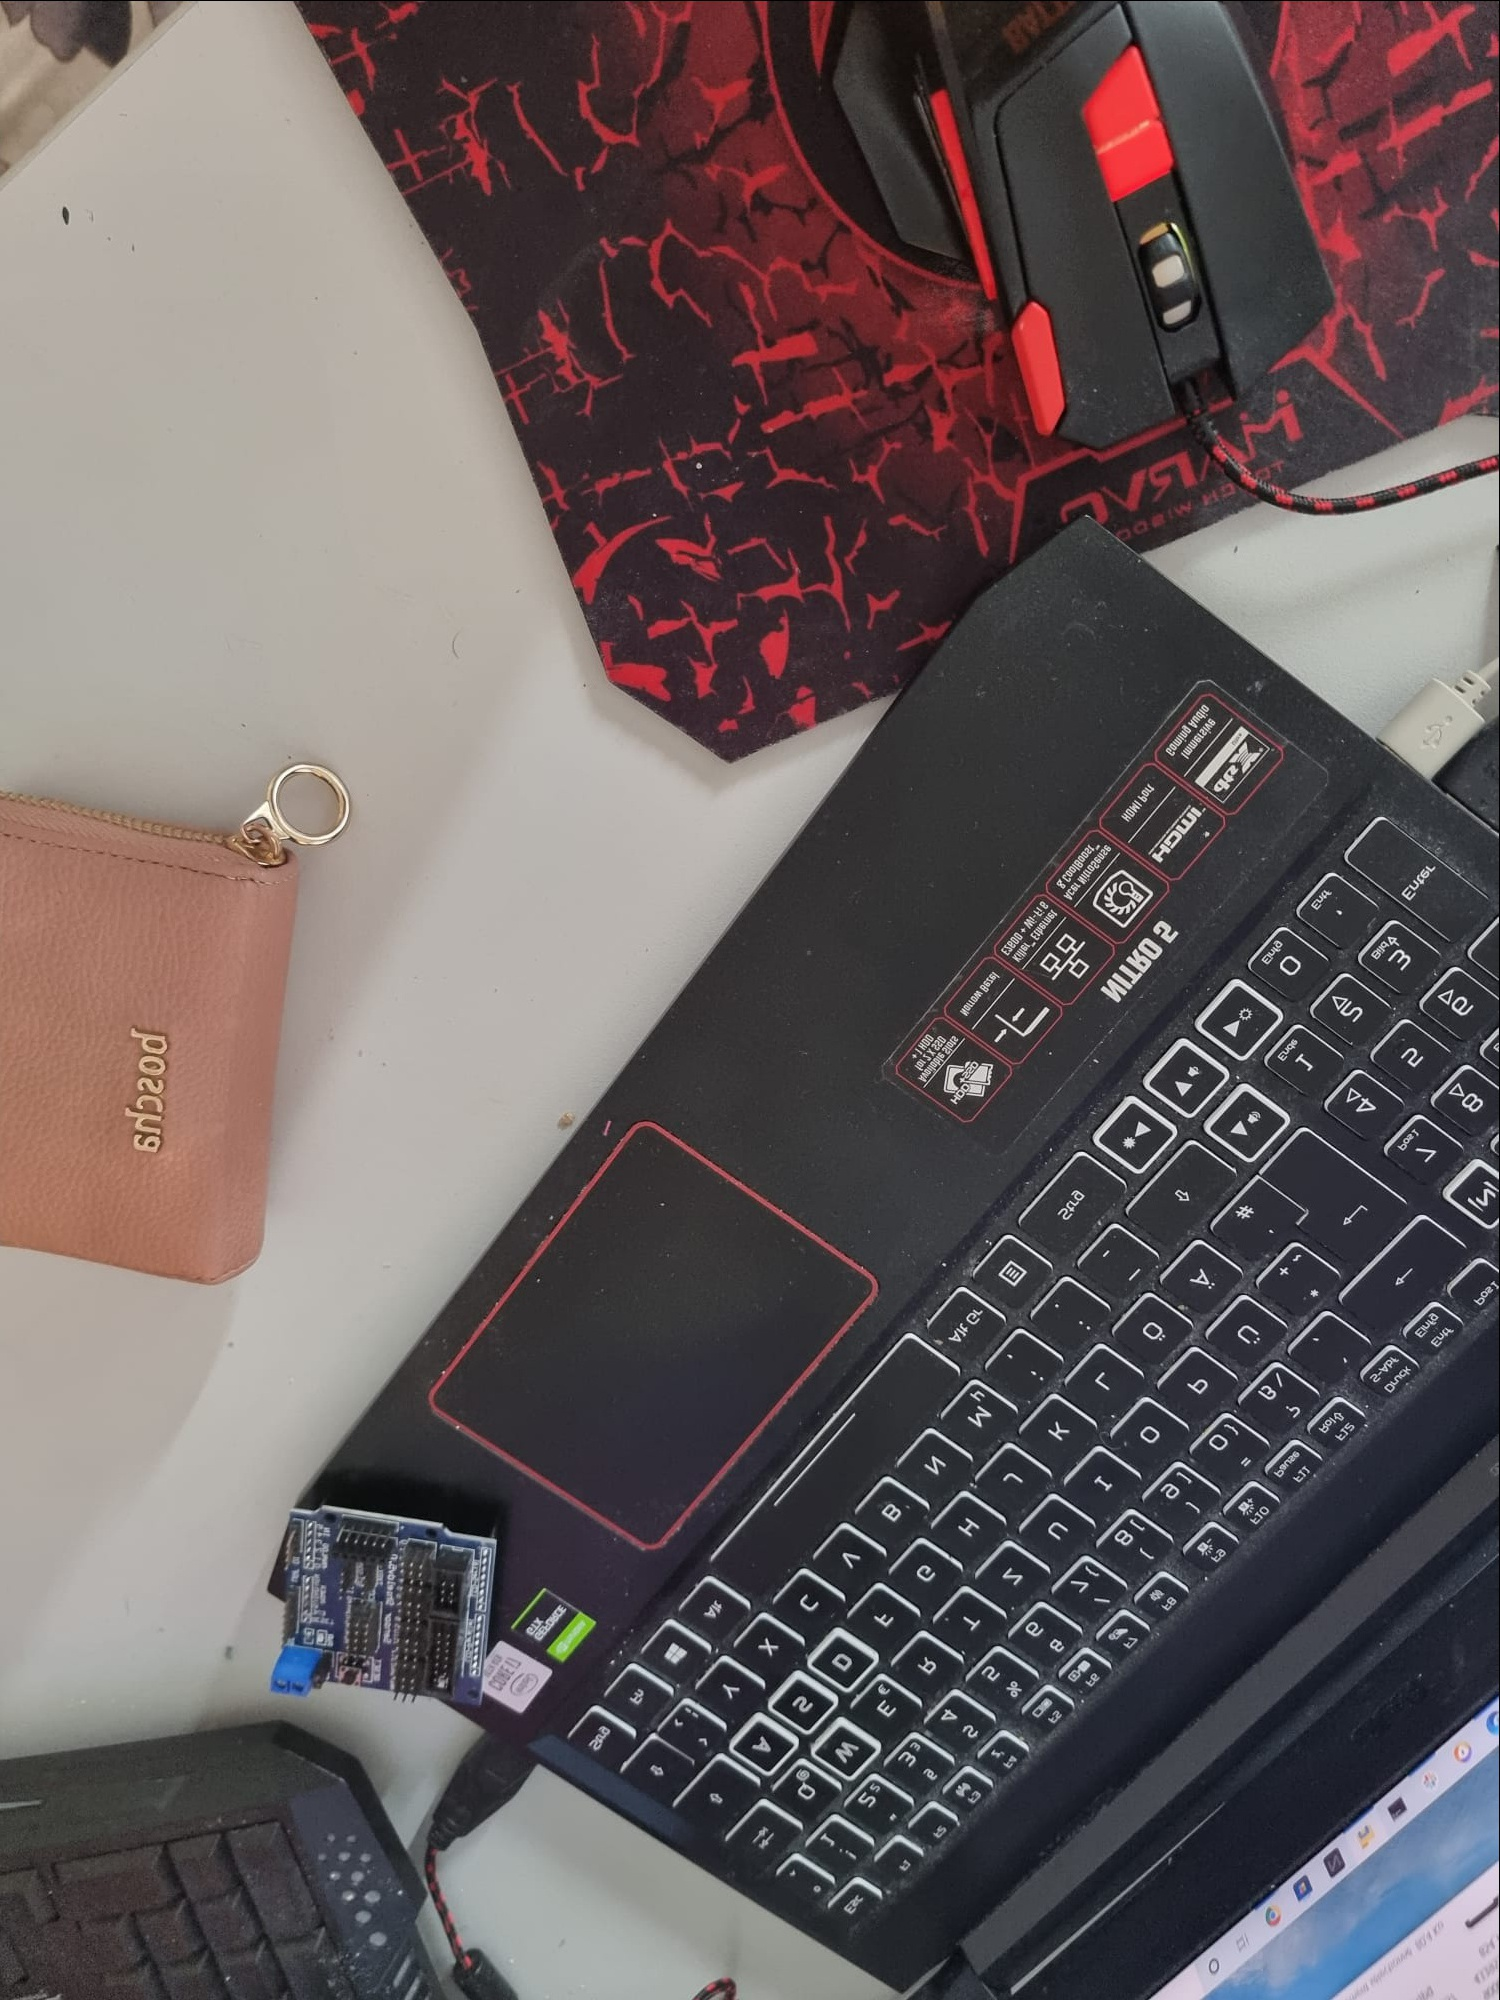5V EXPANSION: (266, 1487, 501, 1706)
